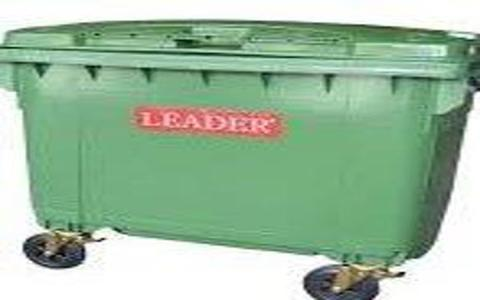Proper garbage: (3, 5, 474, 300)
